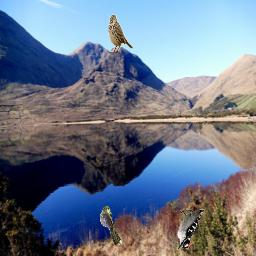Cuckoo: (100, 206, 122, 246)
Sparrow: (108, 14, 133, 54)
Woodpecker: (177, 209, 205, 249)
